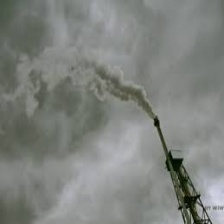smoke: (61, 40, 161, 125)
